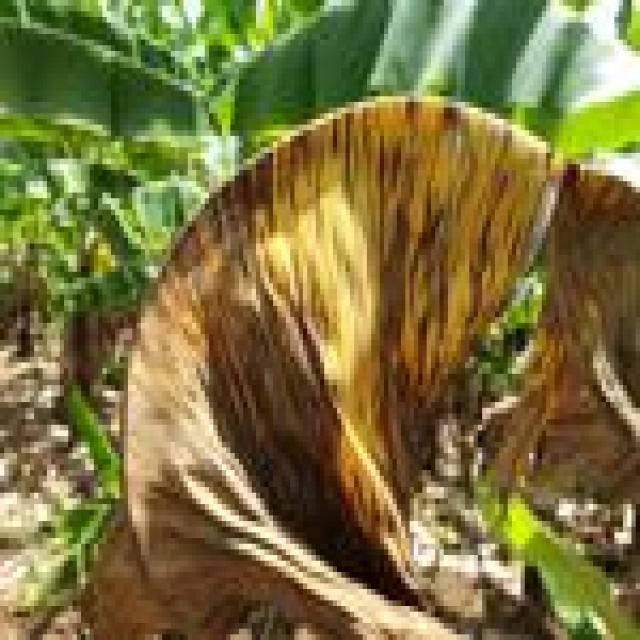Early_rust: (82, 86, 640, 640)
